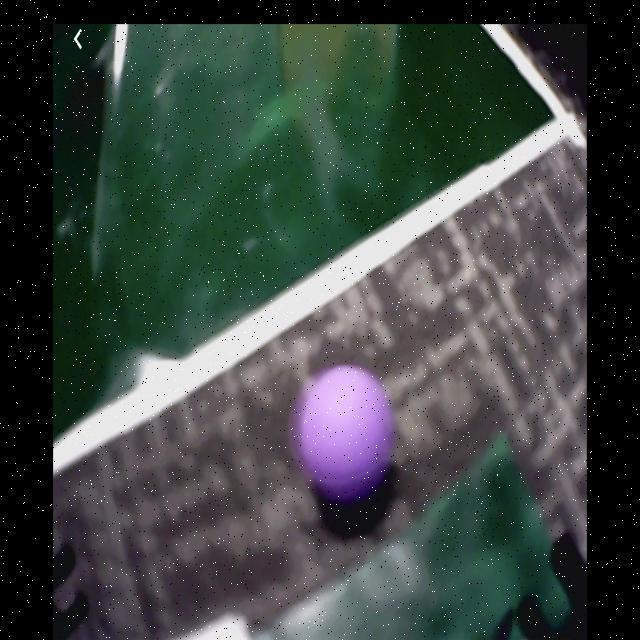ball: (296, 360, 394, 506)
